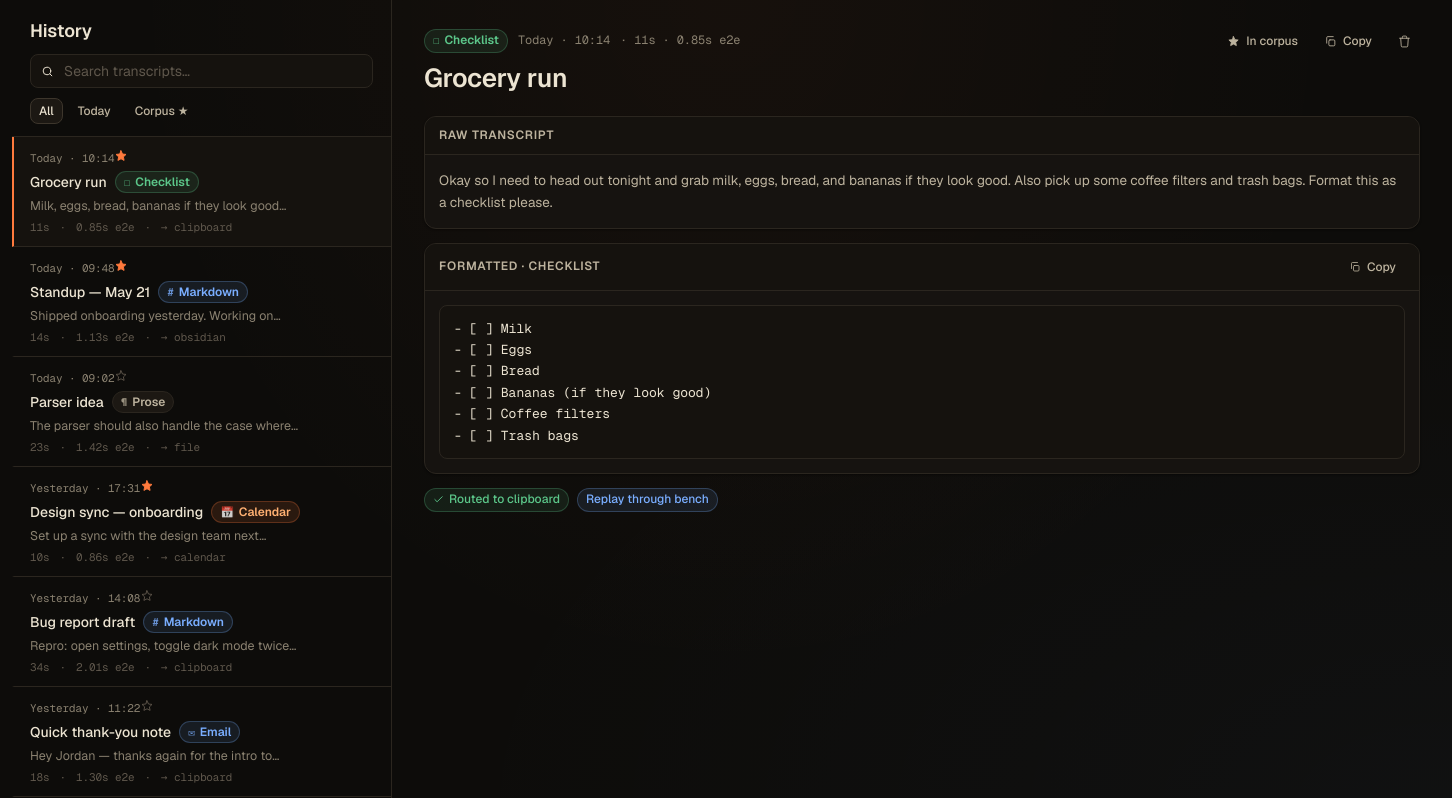
Test case: HistoryView — detail pane › shows a fallback notice for rows without a stored transcript
This screenshot has width=1452, height=798.
Click the text "Bug report draft" at (83, 622), box [30,613,135,631]
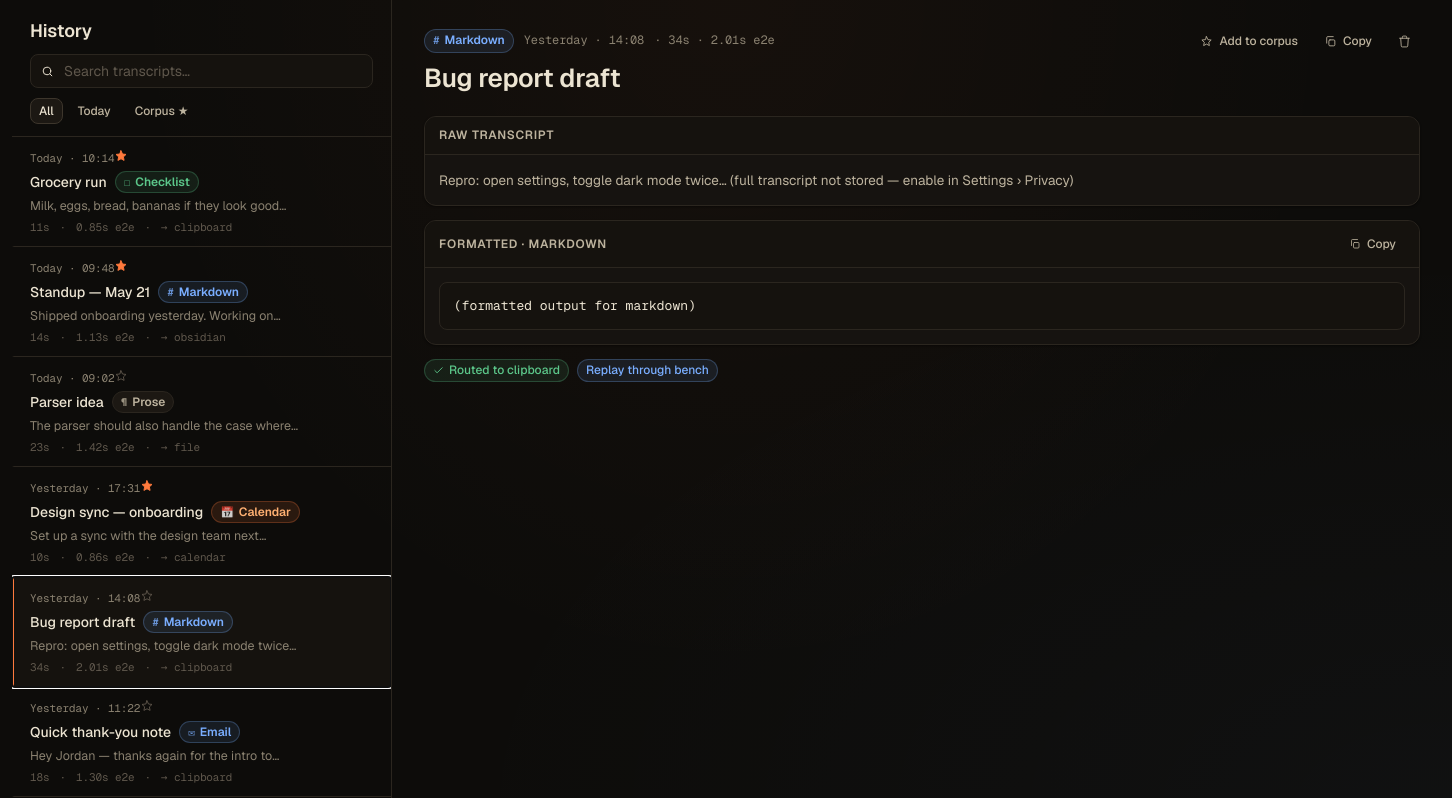
Expected: the text "full transcript not stored" is shown, [439,171,1073,189]
